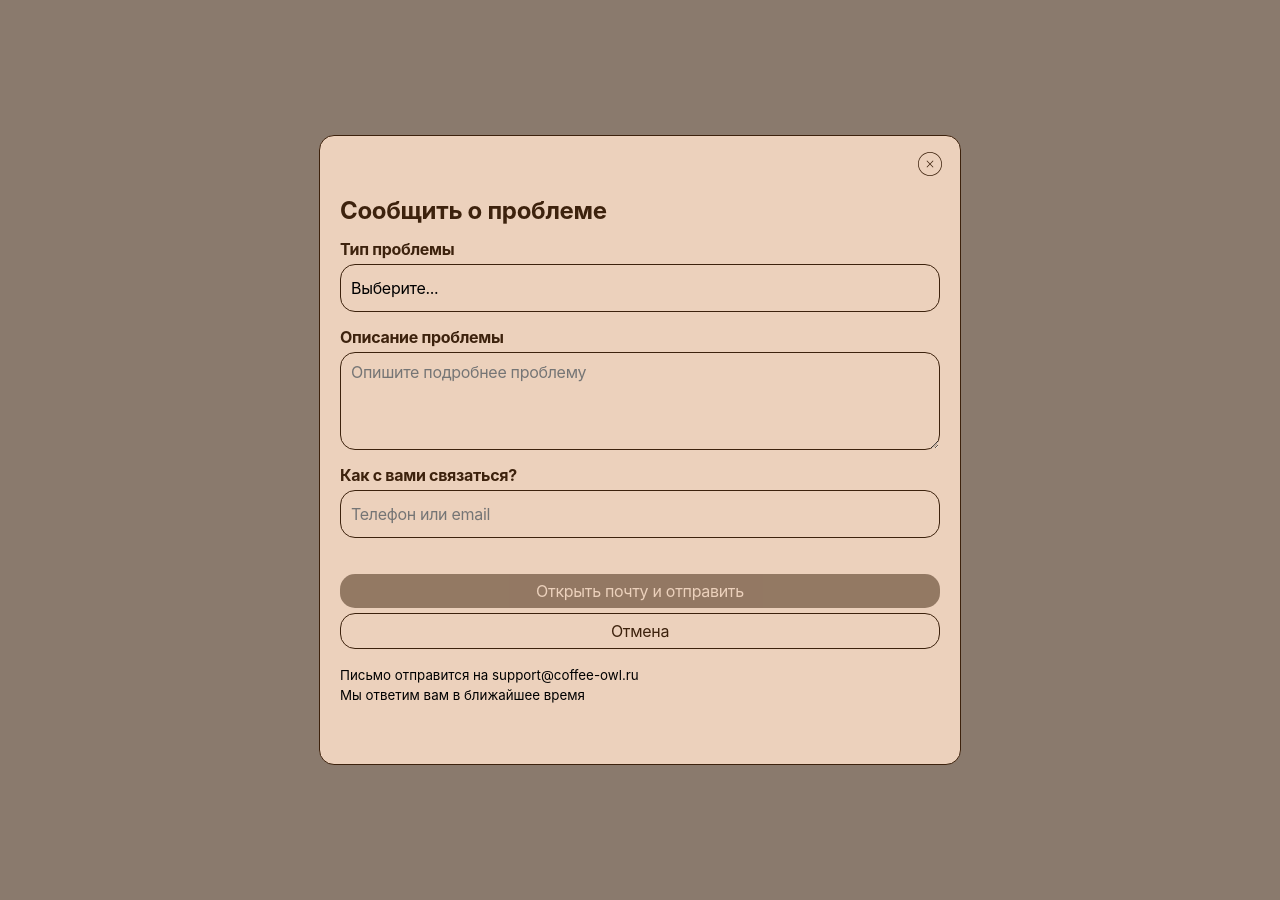
Test: IssueReport Component › Кнопка отправки заблокирована до момента пока не выбран тип проблемы и описание
This screenshot has width=1280, height=900.
Expected: the button "Открыть почту и отправить" is disabled, top-left (340, 574), bottom-right (940, 608)
Select "Не открывается приложение" in the dropdown labelled "Тип проблемы" at (640, 288), box top-left (340, 264), bottom-right (940, 312)
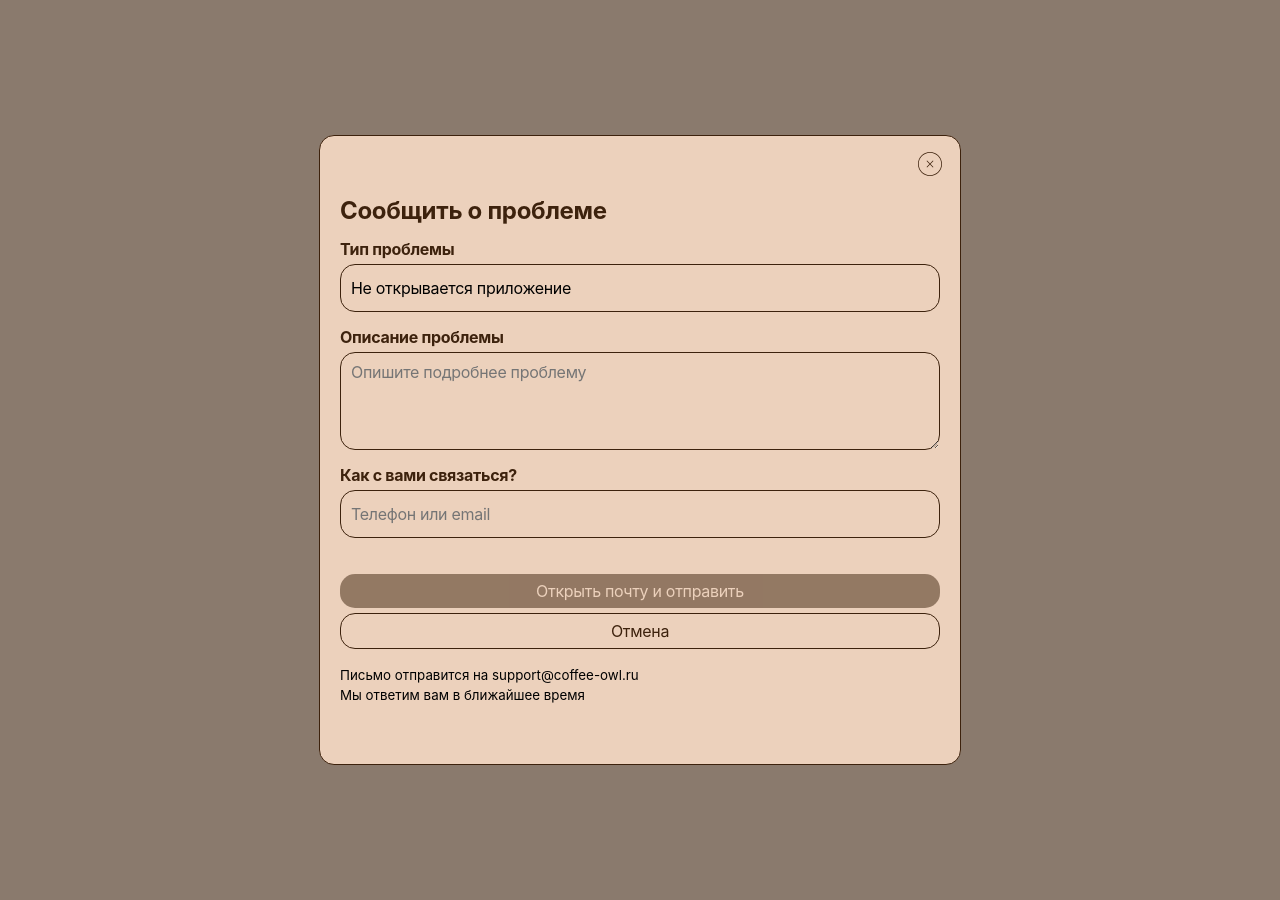
Expected: the button "Открыть почту и отправить" is disabled, top-left (340, 574), bottom-right (940, 608)
Type "Приложение не загружается" into the text box labelled "Описание проблемы" at (640, 401), box top-left (340, 352), bottom-right (940, 450)
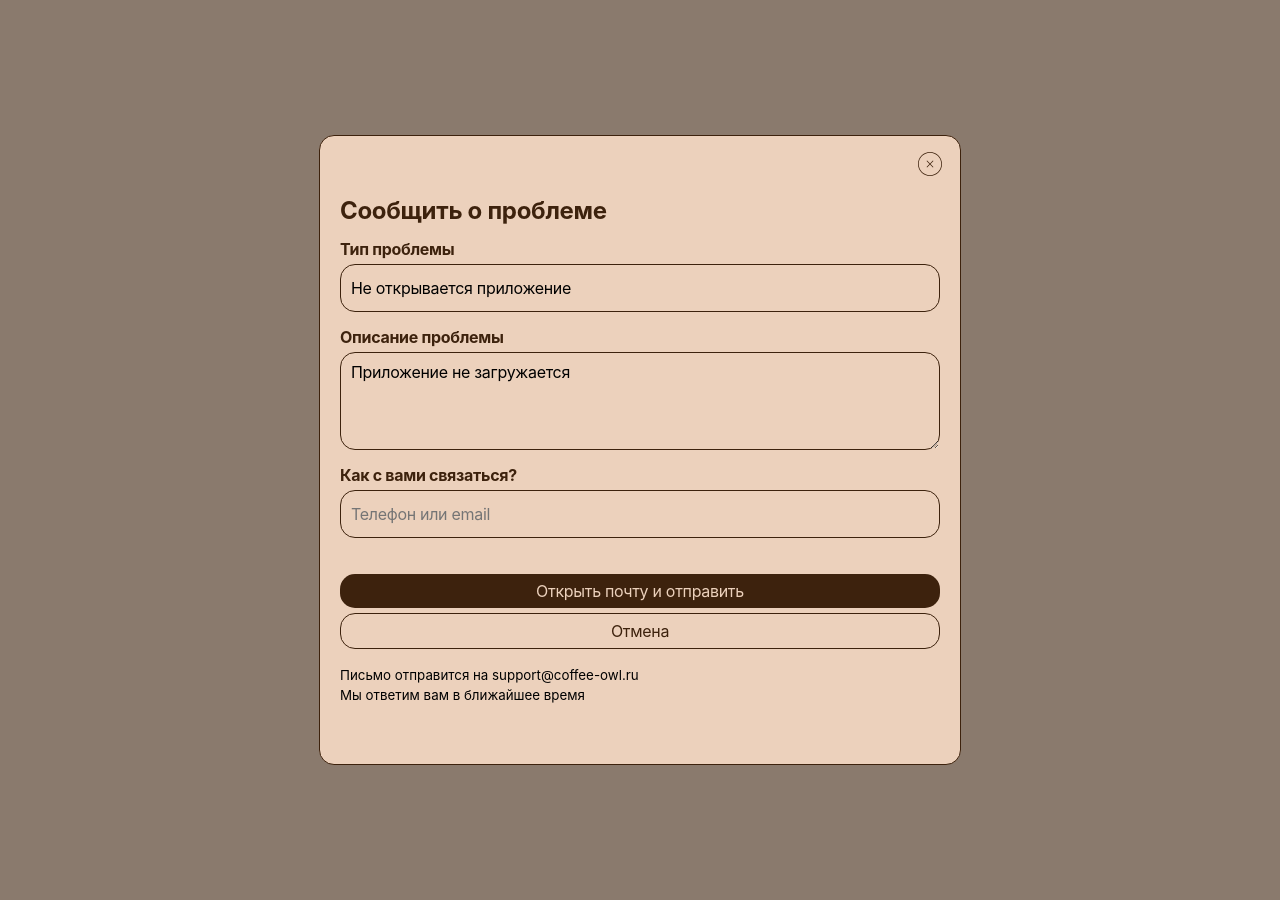
Now the button "Открыть почту и отправить" is enabled, box top-left (340, 574), bottom-right (940, 608)
